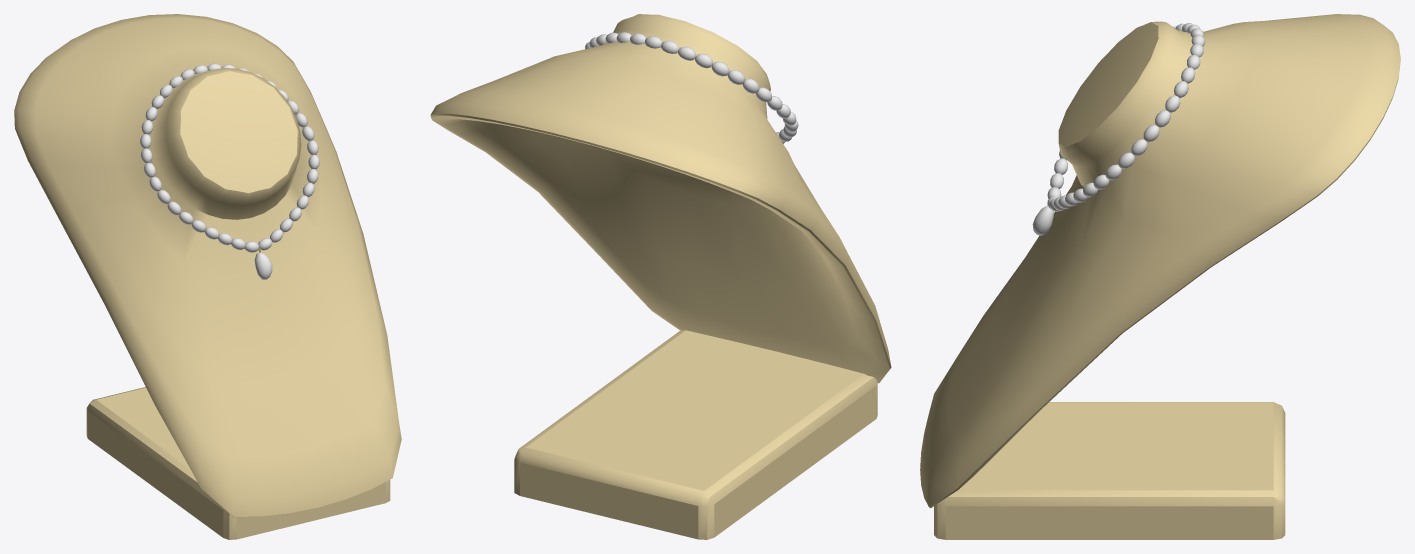
Rendered from Necklace_18.fbx.
3 renders of one model, left to right at view 1: azimuth 30°, elevation 25°; view 2: azimuth 150°, elevation 25°; view 3: azimuth 270°, elevation 25°, orthographic. The views are drawn at different scales.
Parts seen in each view (by area): view 1: SM_Stand_Necklace_18, SM_Pearls; view 2: SM_Stand_Necklace_18, SM_Pearls; view 3: SM_Stand_Necklace_18, SM_Pearls.
Boxes of the visible parts, x1,y1,x2,y2 form: SM_Stand_Necklace_18: [14, 14, 401, 539]; SM_Pearls: [140, 63, 319, 279]; SM_Stand_Necklace_18: [430, 14, 891, 539]; SM_Pearls: [585, 32, 798, 143]; SM_Stand_Necklace_18: [920, 14, 1400, 539]; SM_Pearls: [1032, 23, 1205, 235].
Size of the model in its own units: 22.51 by 29.29 by 27.78.
